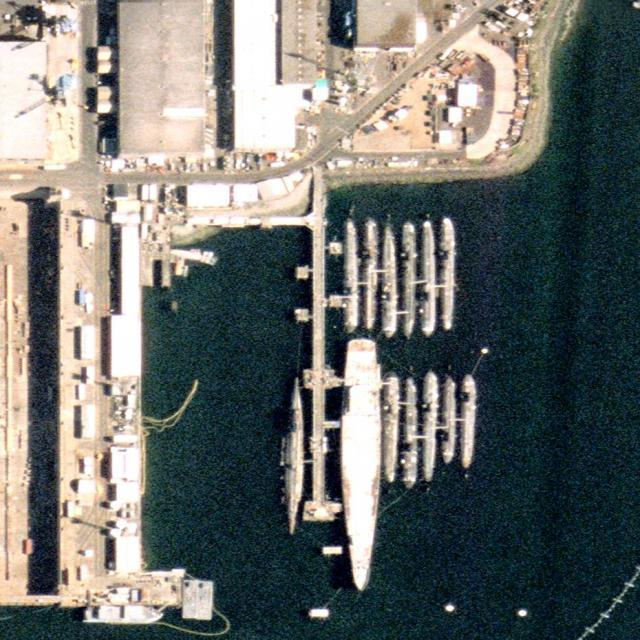Dock: (297, 212, 343, 524)
Other Ship: (345, 337, 378, 590), (83, 606, 160, 623)
Submarine: (284, 378, 306, 534), (418, 221, 437, 335), (381, 374, 401, 481), (399, 222, 417, 339), (420, 370, 438, 480), (459, 374, 477, 467), (343, 219, 356, 332), (383, 227, 395, 337), (364, 217, 375, 328), (442, 219, 453, 330), (406, 379, 416, 487), (442, 376, 454, 464)
